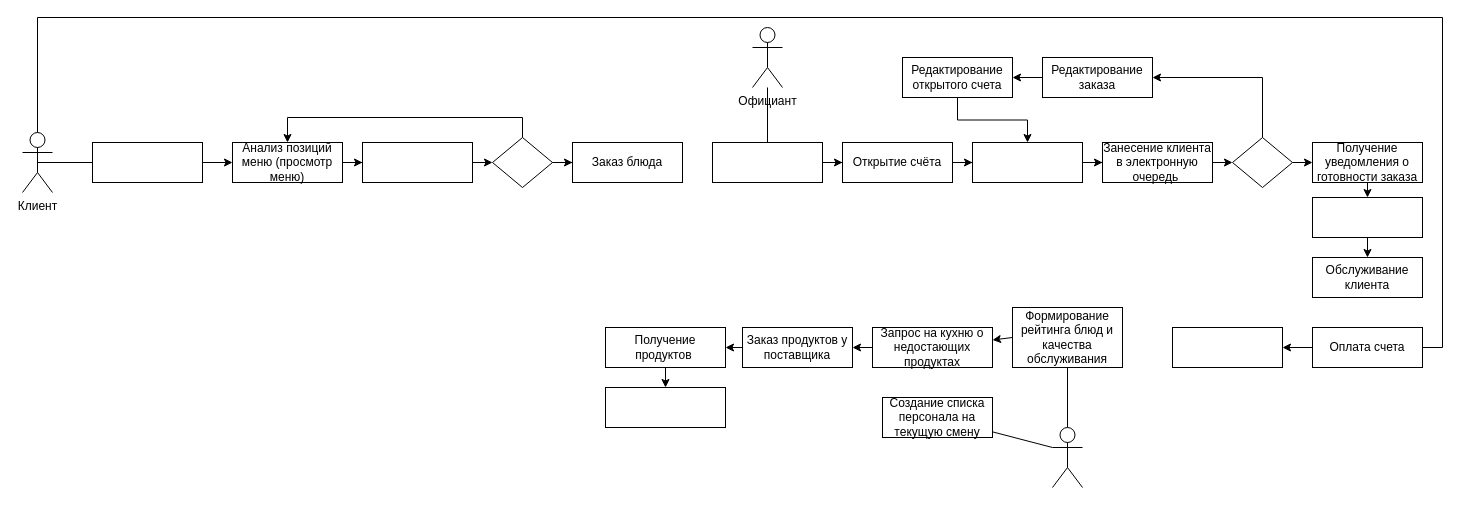
Image size: 1461x526. Some labels were removed from this diagram. The shapes that lost their labels are listed below. From the top down, each one's centre as x and y in pixels, then its label:
At point (147, 162): "Получение меню".
At point (417, 162): "Открытие карточки интересующего блюда".
At point (767, 162): "Формирование заказа".
At point (1027, 162): "Передача заказа на кухню".
At point (1367, 217): "Получение готового заказа на кухне".
At point (1227, 347): "Оставление отзыва".
At point (665, 407): "Подсчет прибыли R-Keeper".
At point (1067, 457): "Менеджер".
